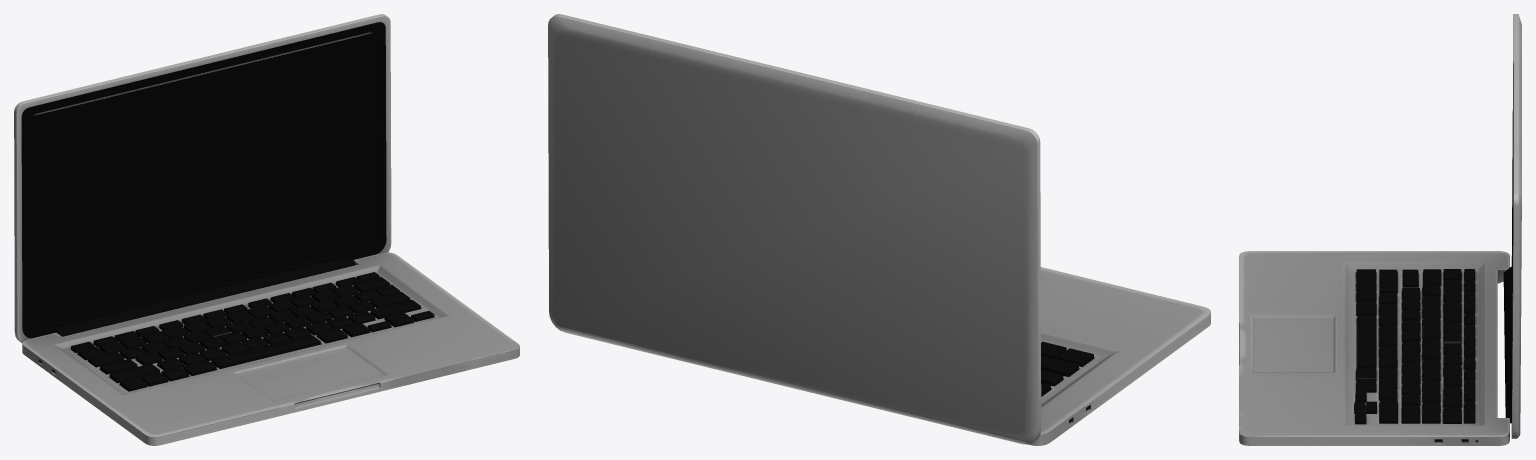
File: laptopModel.glb
3 views of the same model, side by side, from view 1: azimuth 30°, elevation 25°; view 2: azimuth 150°, elevation 25°; view 3: azimuth 270°, elevation 25° (orthographic). The views are drawn at different scales.
Visible parts, largest first — view 1: laptop_outer_display, laptop_keyboard, laptop_bezel, laptop_inner_keys, laptop_outer_keys, laptop_screen, laptop_shift_keys; view 2: laptop_screen, laptop_keyboard, laptop_outer_keys; view 3: laptop_keyboard, laptop_outer_keys, laptop_inner_keys, laptop_screen, laptop_base, laptop_bezel, laptop_shift_keys.
Part boxes in pixels (left/top/right/bottom): laptop_outer_display: left=30, top=33, right=376, bottom=327; laptop_keyboard: left=22, top=252, right=519, bottom=445; laptop_bezel: left=21, top=22, right=386, bottom=338; laptop_inner_keys: left=93, top=277, right=359, bottom=391; laptop_outer_keys: left=71, top=272, right=413, bottom=386; laptop_screen: left=14, top=14, right=391, bottom=349; laptop_shift_keys: left=100, top=300, right=434, bottom=374; laptop_screen: left=548, top=14, right=1041, bottom=444; laptop_keyboard: left=1028, top=267, right=1210, bottom=445; laptop_outer_keys: left=1041, top=341, right=1078, bottom=396; laptop_keyboard: left=1239, top=251, right=1509, bottom=445; laptop_outer_keys: left=1354, top=269, right=1474, bottom=423; laptop_inner_keys: left=1356, top=269, right=1474, bottom=411; laptop_screen: left=1421, top=14, right=1521, bottom=438; laptop_base: left=1354, top=271, right=1477, bottom=441; laptop_bezel: left=1503, top=64, right=1513, bottom=423; laptop_shift_keys: left=1355, top=269, right=1418, bottom=424.
Bounding box in the file's own units: 6.83 × 4.39 × 4.38.
14 materials, 8 textured.
